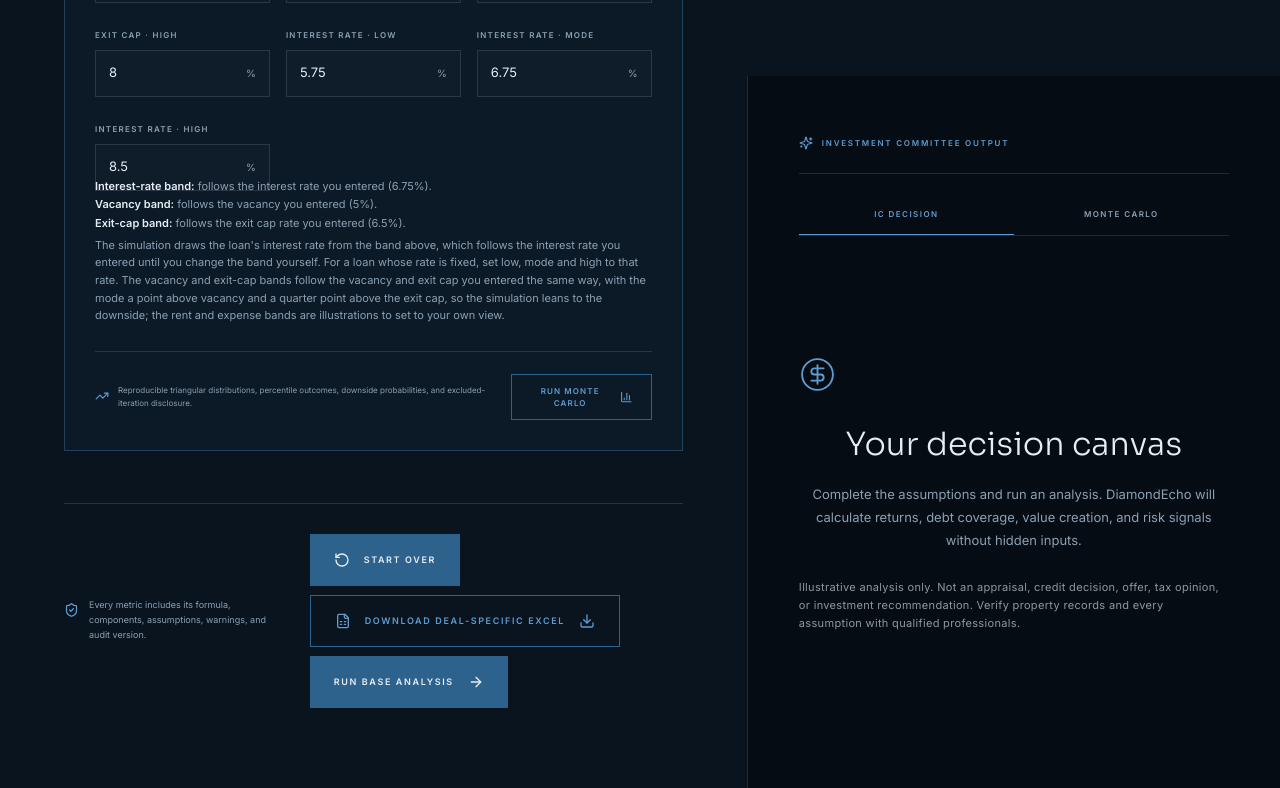
rental decision view › scenario table is a labelled region that keyboard users can scroll
This screenshot has width=1280, height=788.
(page scrolled)
Click the button "Run base analysis" at (409, 682), box [310,656,508,708]
(page scrolled)
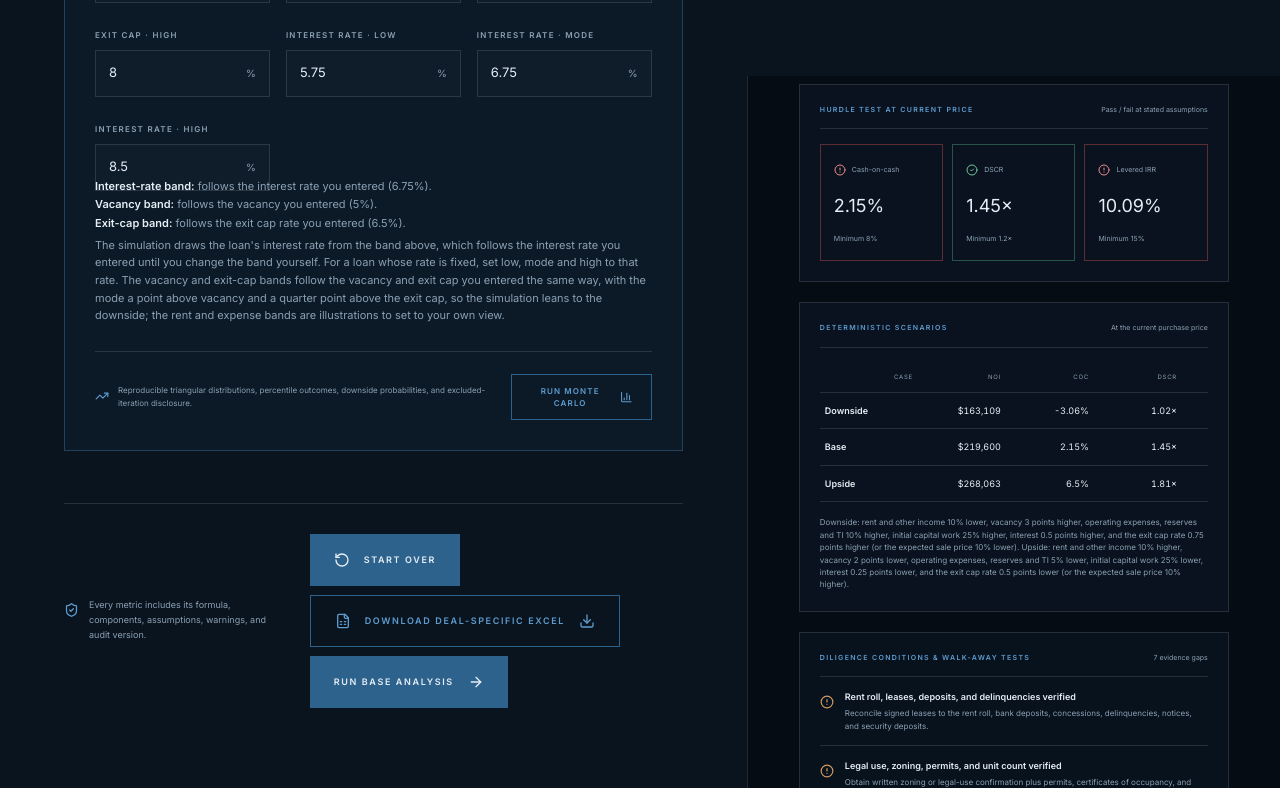
Check: the element with class "studio-scenario-table" is shown, box [820,361,1208,502]
